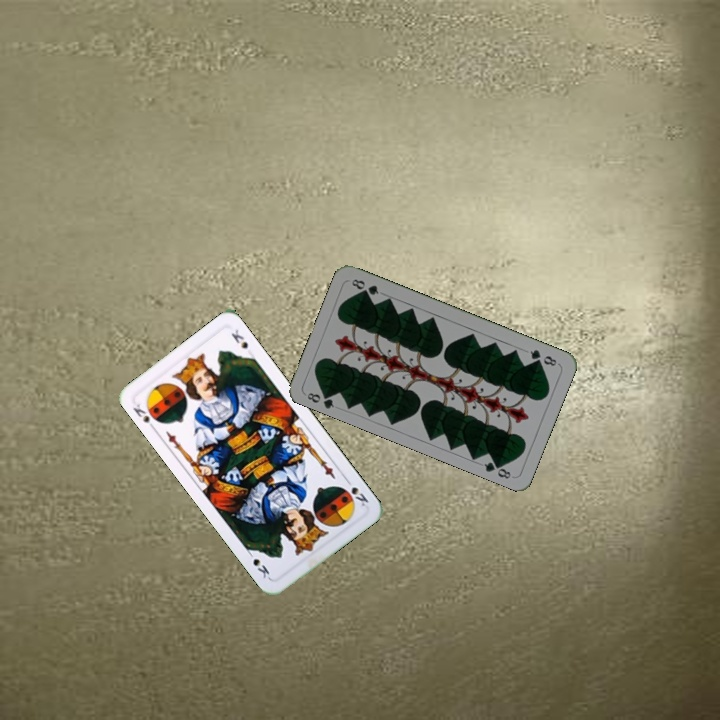G8: (303, 387, 337, 411), (526, 345, 559, 369)
SK: (339, 474, 371, 509), (129, 400, 159, 433)
